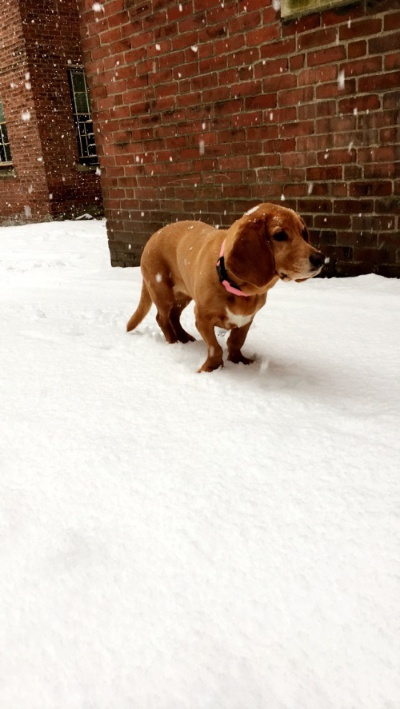daisy: (224, 191, 332, 307)
